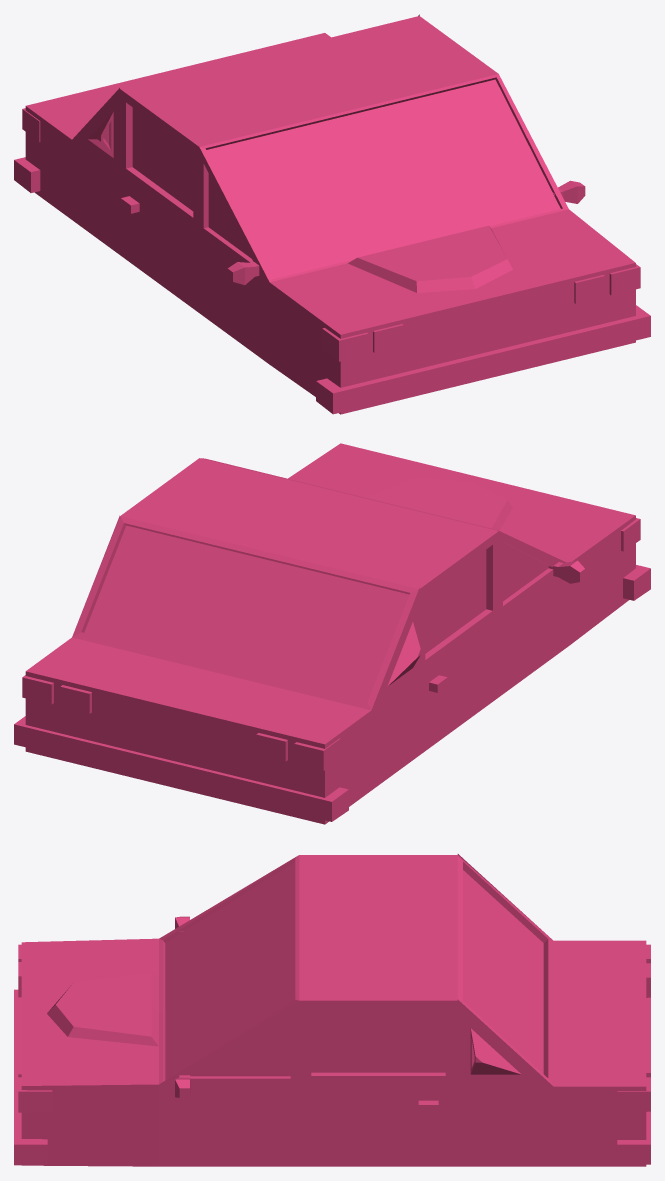
Rendered from Auto4.fbx.
3 renders of one model, top to bottom at view 1: azimuth 30°, elevation 25°; view 2: azimuth 150°, elevation 25°; view 3: azimuth 270°, elevation 25°, orthographic.
Visible parts, largest first — view 1: Cube; view 2: Cube; view 3: Cube.
Part boxes in pixels (box(x1,y1,x2,y2)): Cube: box(14, 14, 650, 414); Cube: box(14, 443, 650, 824); Cube: box(14, 854, 650, 1166).
Size of the model in its own units: 103 by 46.74 by 161.
